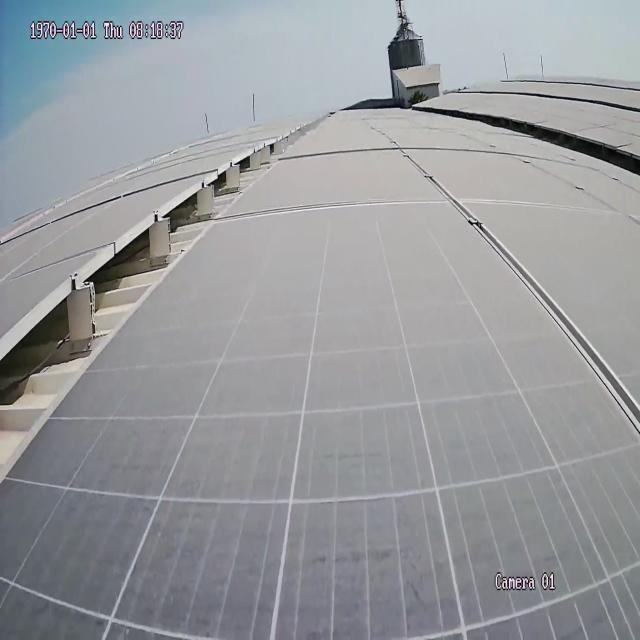interior panel: (401, 151, 636, 415)
outher panel: (3, 125, 308, 480), (443, 106, 639, 180)
